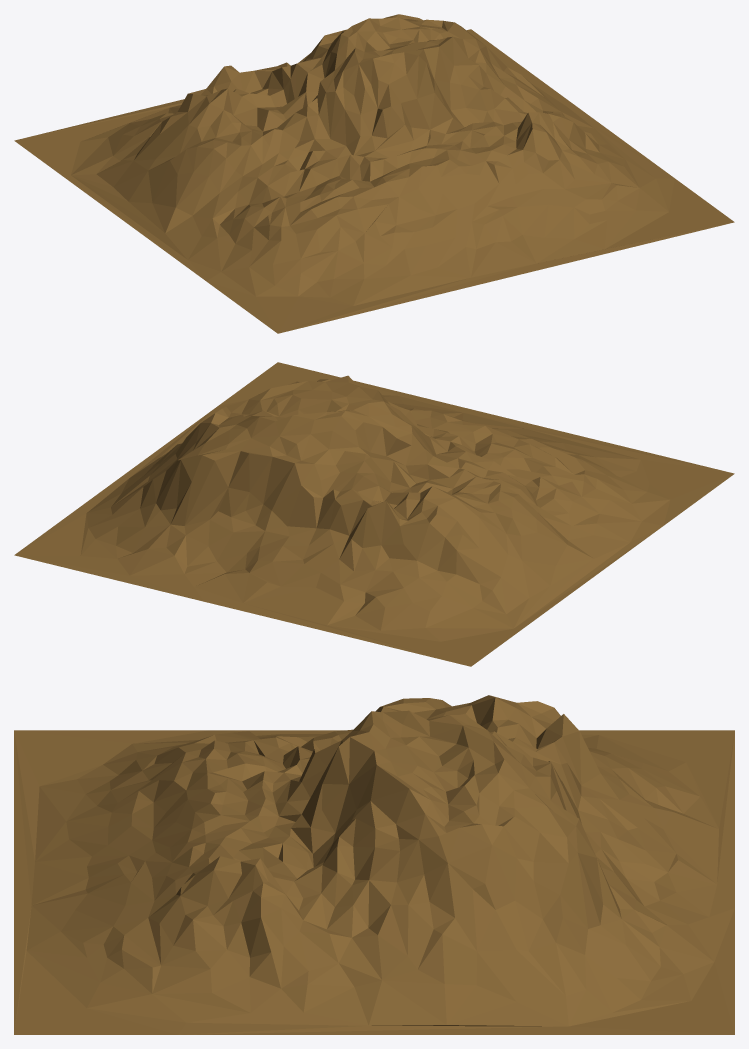
Rendered from Terrain_16.fbx.
The picture shows the model from 3 angles, top to bottom: view 1: azimuth 30°, elevation 25°; view 2: azimuth 150°, elevation 25°; view 3: azimuth 270°, elevation 25°; orthographic projection. The views are drawn at different scales.
Visible parts, largest first — view 1: Terrain_16; view 2: Terrain_16; view 3: Terrain_16.
Part boxes in pixels (x1,y1,x2,y2): Terrain_16: (14,14,734,333); Terrain_16: (14,362,734,666); Terrain_16: (14,695,734,1034).
Bounding box in the file's own units: 20000 × 5196 × 20000.
